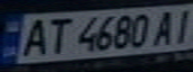0: (127, 11, 154, 48)
4: (75, 14, 100, 53)
6: (93, 12, 118, 52)
8: (112, 11, 136, 51)
A: (15, 16, 54, 58), (148, 7, 184, 46)
I: (166, 5, 193, 44)
T: (39, 15, 75, 55)
